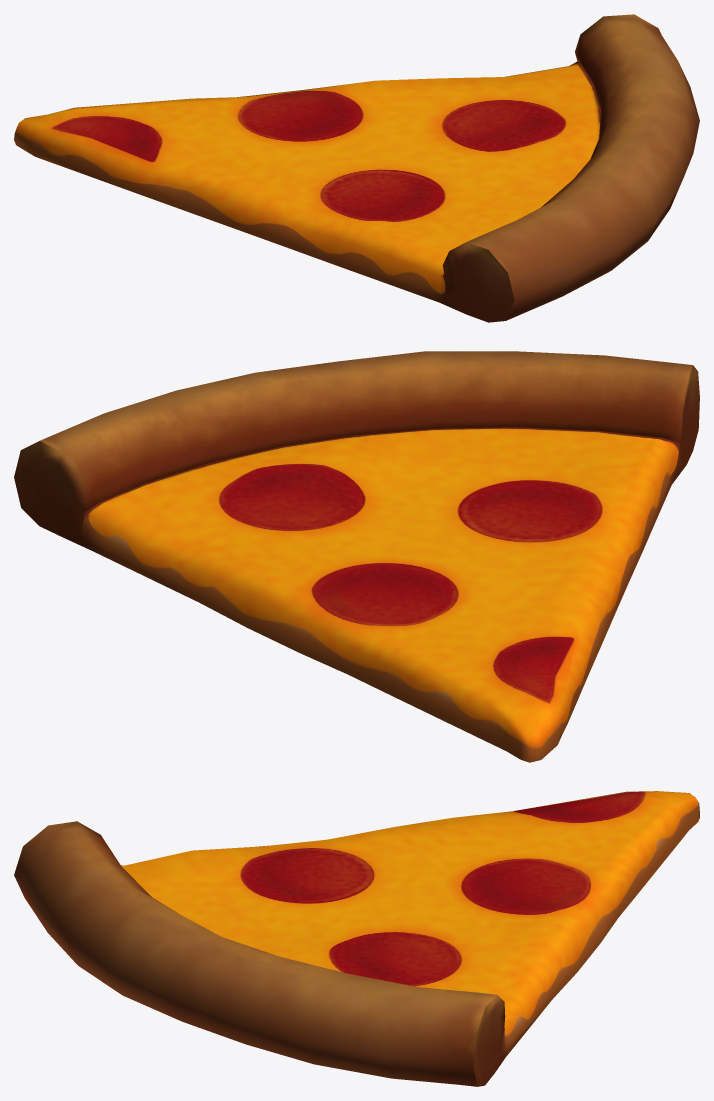
The model's file is Pizza.fbx.
3 views of the same model, one above another, from view 1: azimuth 30°, elevation 25°; view 2: azimuth 150°, elevation 25°; view 3: azimuth 270°, elevation 25° (orthographic). The views are drawn at different scales.
Parts seen in each view (by area): view 1: Pizza_1; view 2: Pizza_1; view 3: Pizza_1.
Part boxes in pixels (x1=…): Pizza_1: x1=14, y1=14, x2=699, y2=322; Pizza_1: x1=14, y1=351, x2=699, y2=762; Pizza_1: x1=14, y1=791, x2=699, y2=1086.
Bounding box in the file's own units: 72.34 × 9.43 × 73.18.
